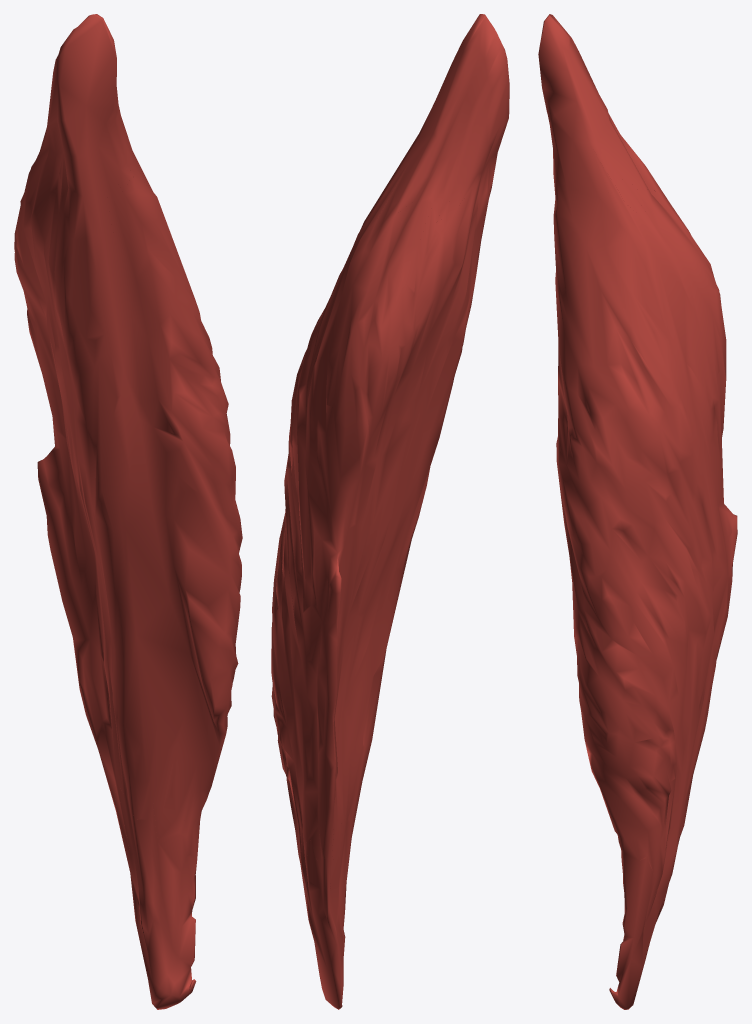
The model's file is musculos-lateral-head-of-triceps-brachii-l.glb.
The picture shows the model from 3 angles, left to right: view 1: azimuth 30°, elevation 25°; view 2: azimuth 150°, elevation 25°; view 3: azimuth 270°, elevation 25°; orthographic projection. The views are drawn at different scales.
Parts seen in each view (by area): view 1: Lateral head of triceps brachii.l; view 2: Lateral head of triceps brachii.l; view 3: Lateral head of triceps brachii.l.
Part boxes in pixels (x1,y1,x2,y2): Lateral head of triceps brachii.l: [14, 14, 242, 1009]; Lateral head of triceps brachii.l: [271, 14, 509, 1009]; Lateral head of triceps brachii.l: [538, 14, 737, 1009].
Bounding box in the file's own units: 0.0561 × 0.2648 × 0.0506.
